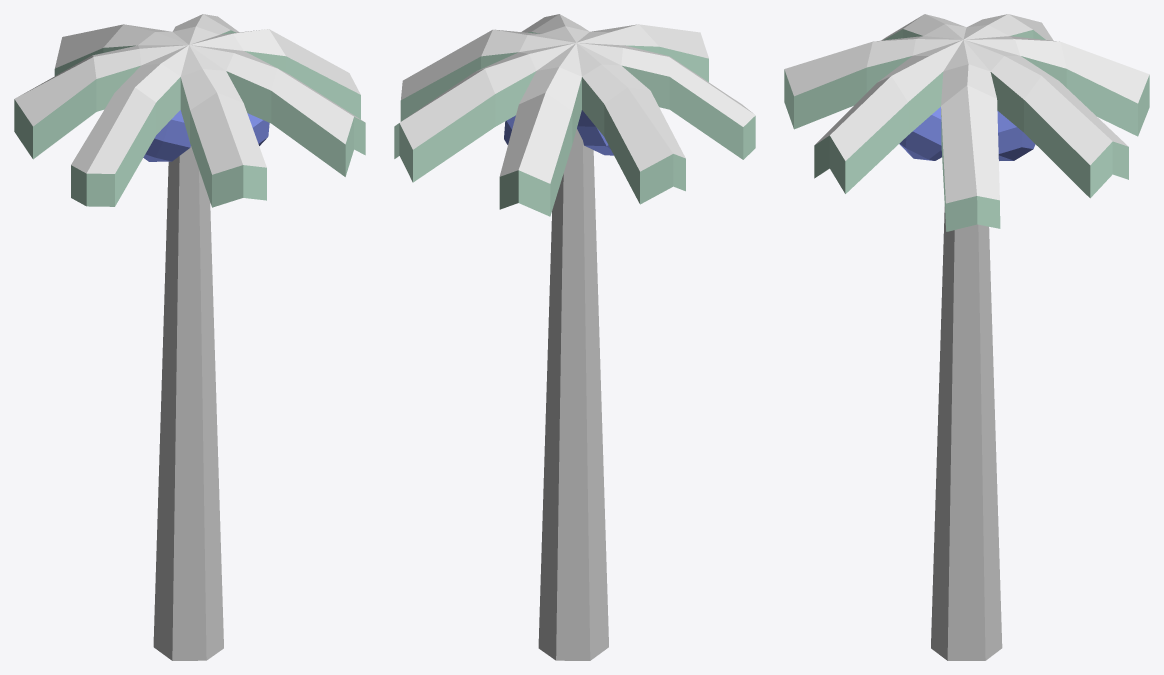
The model's file is palm_tree.glb.
3 renders of one model, left to right at view 1: azimuth 30°, elevation 25°; view 2: azimuth 150°, elevation 25°; view 3: azimuth 270°, elevation 25°, orthographic.
Parts seen in each view (by area): view 1: palm_tree; view 2: palm_tree; view 3: palm_tree.
Boxes of the visible parts, x1,y1,x2,y2 form: palm_tree: [14, 14, 365, 660]; palm_tree: [394, 14, 755, 660]; palm_tree: [784, 14, 1149, 660].
Bounding box in the file's own units: 1.65 × 3.08 × 1.68.
